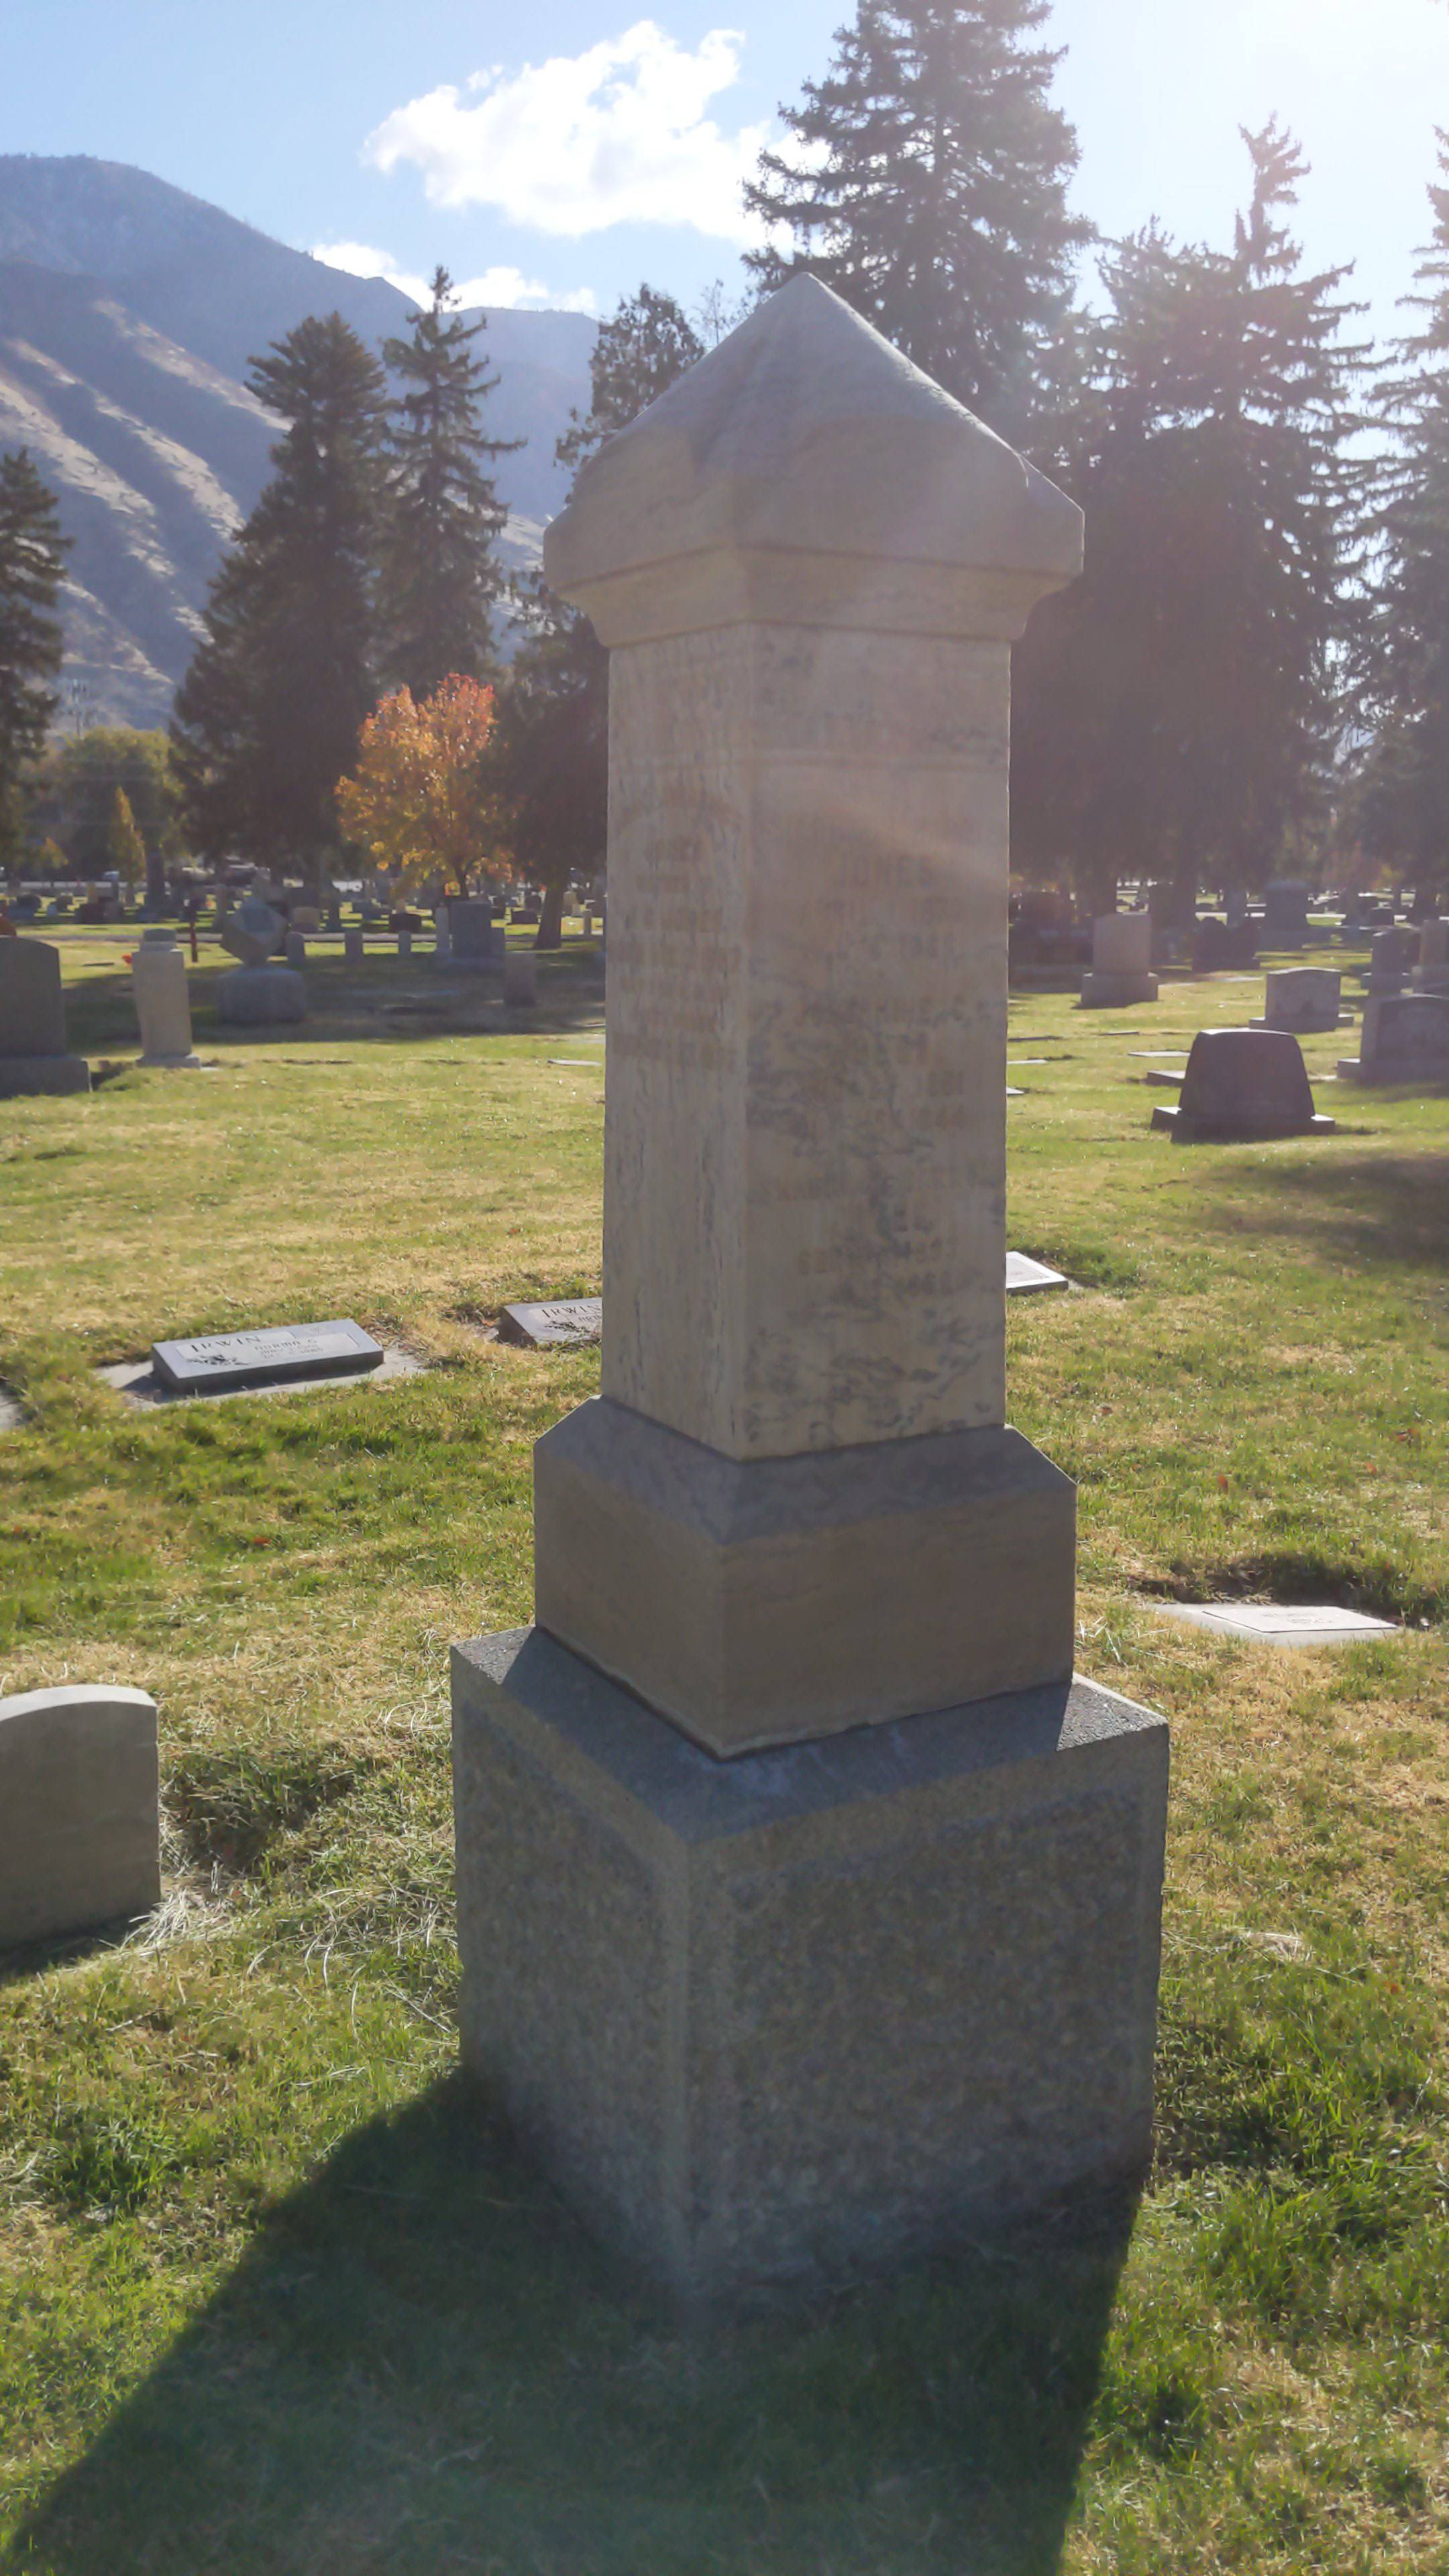obelisk: (533, 276, 1085, 1736)
